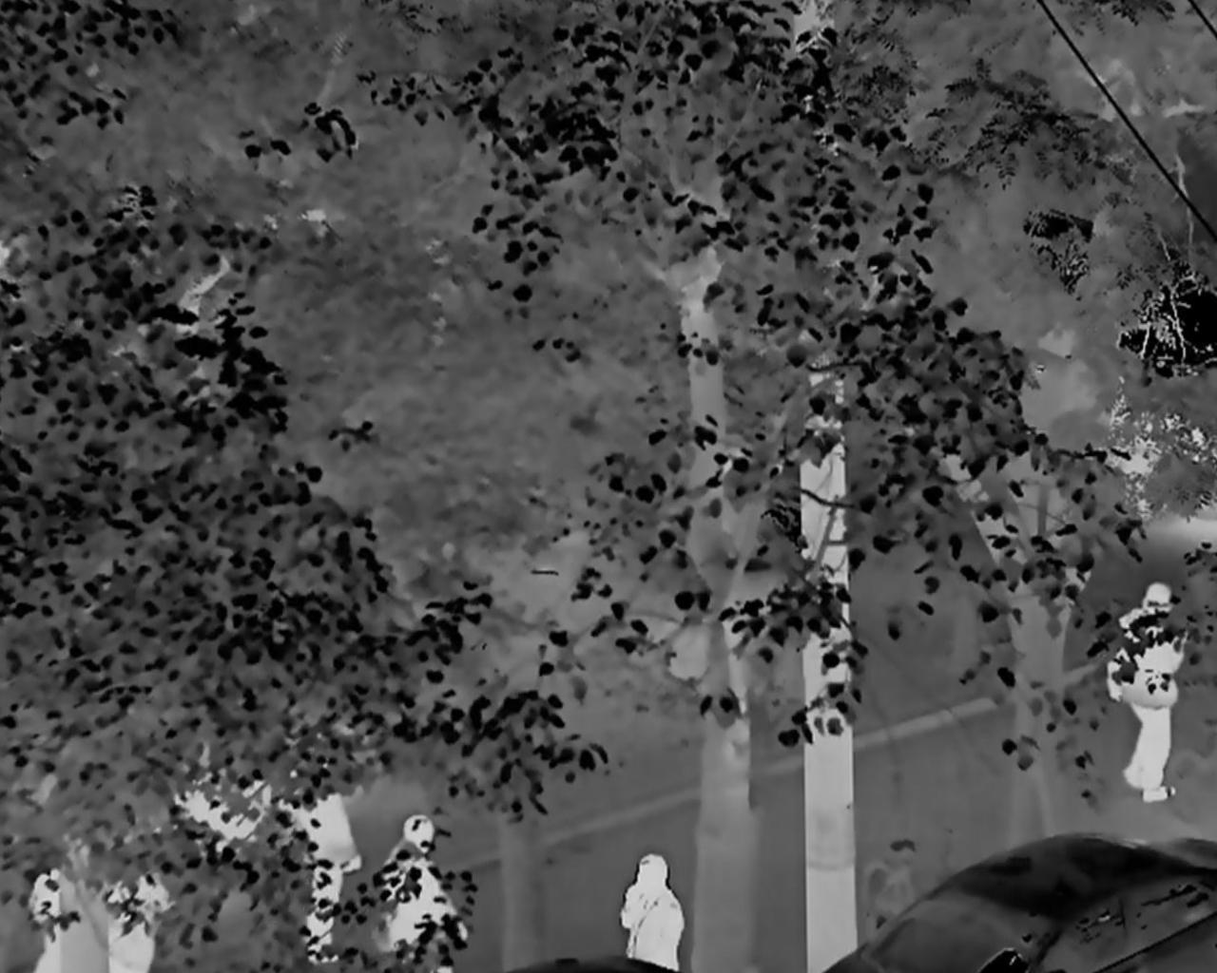person: (1106, 580, 1181, 807), (379, 817, 469, 973), (616, 856, 691, 972)
